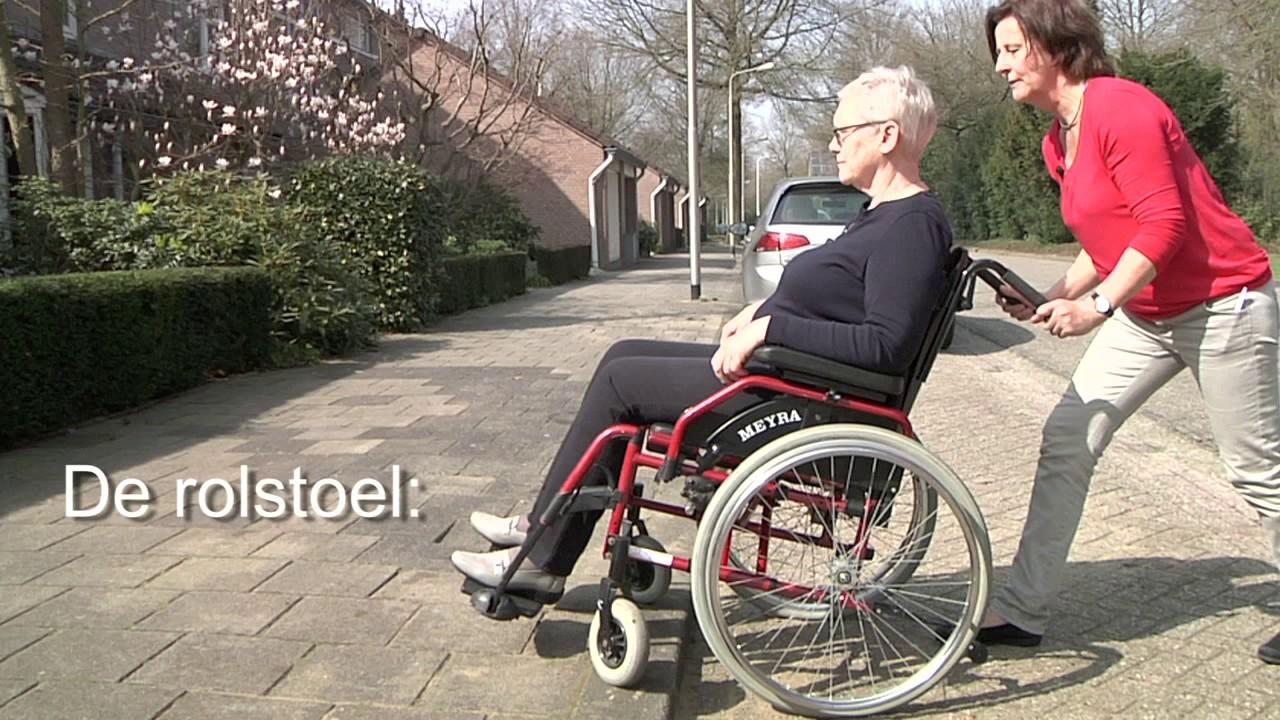push_wheelchair: (938, 0, 1280, 663)
wheelchair: (450, 66, 1062, 719)
